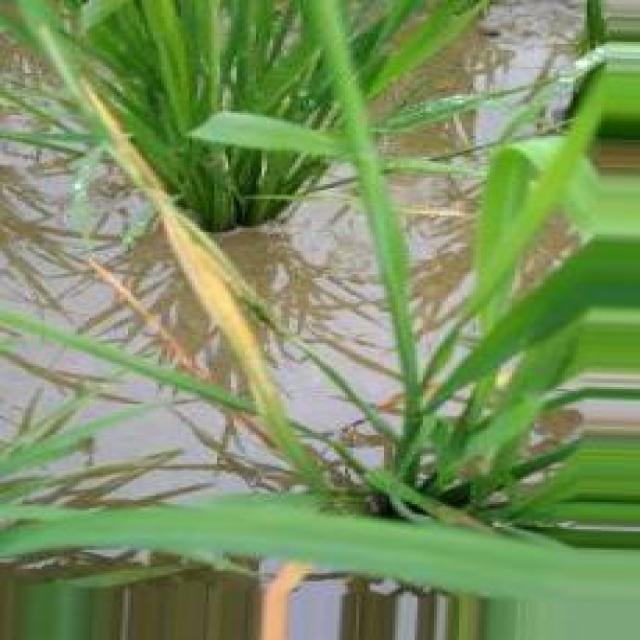Rice Tungro: (81, 79, 318, 478), (89, 259, 195, 371), (261, 562, 311, 639)
